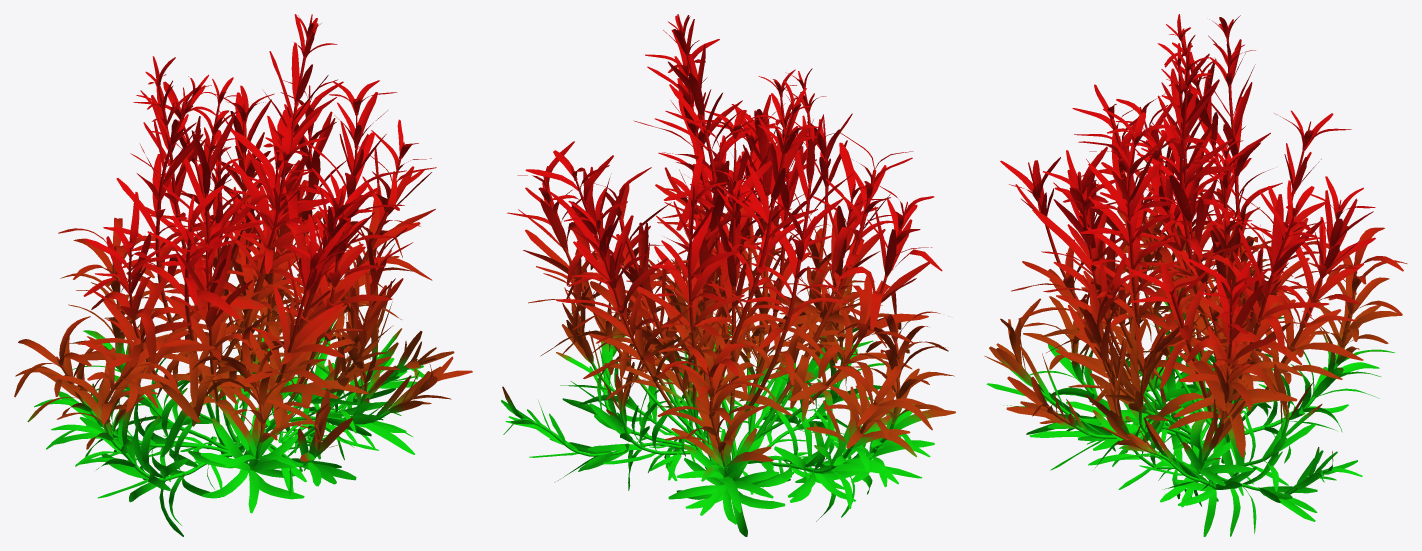
The model's file is Var2_LOD0.fbx.
3 renders of one model, left to right at view 1: azimuth 30°, elevation 25°; view 2: azimuth 150°, elevation 25°; view 3: azimuth 270°, elevation 25°, orthographic.
Parts seen in each view (by area): view 1: _1e3w_Var2_LOD0; view 2: _1e3w_Var2_LOD0; view 3: _1e3w_Var2_LOD0.
Part boxes in pixels (<box>): _1e3w_Var2_LOD0: <box>14,14,472,536</box>; _1e3w_Var2_LOD0: <box>501,14,955,536</box>; _1e3w_Var2_LOD0: <box>984,14,1407,536</box>.
Size of the model in its own units: 26.7 by 29.3 by 23.3.
